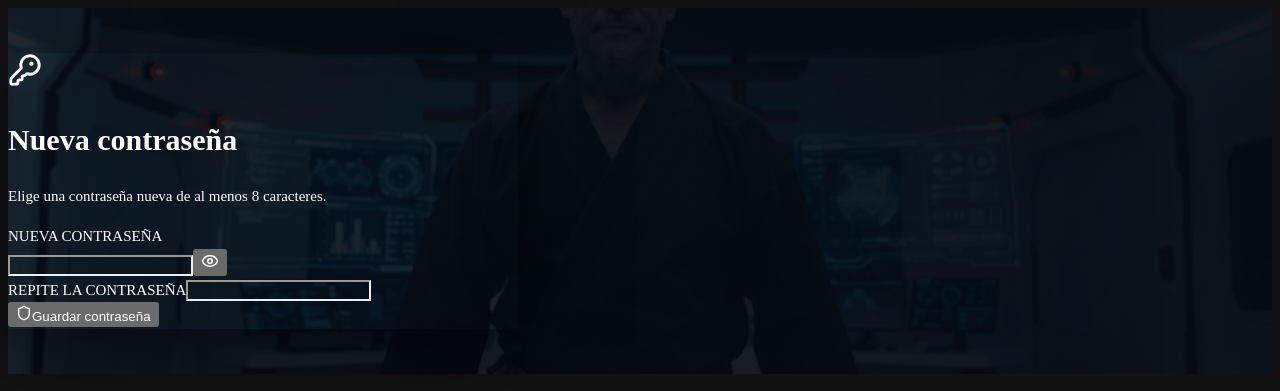
success updates the password, revokes other sessions and announces it
Type "ClaveNueva123" into the password field labelled "NUEVA CONTRASEÑA" at (100, 265), box [8,255,193,276]
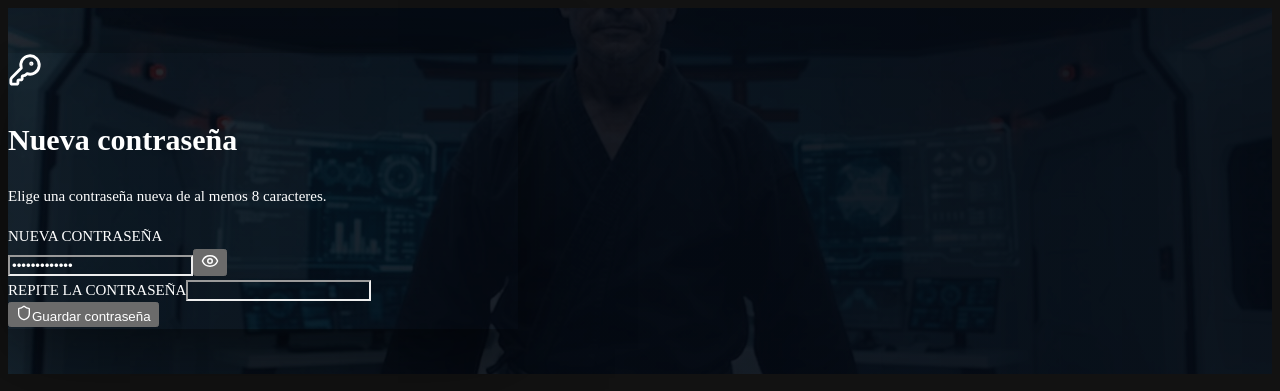
Type "ClaveNueva123" into the password field labelled "REPITE LA CONTRASEÑA" at (279, 290), box [186,280,371,301]
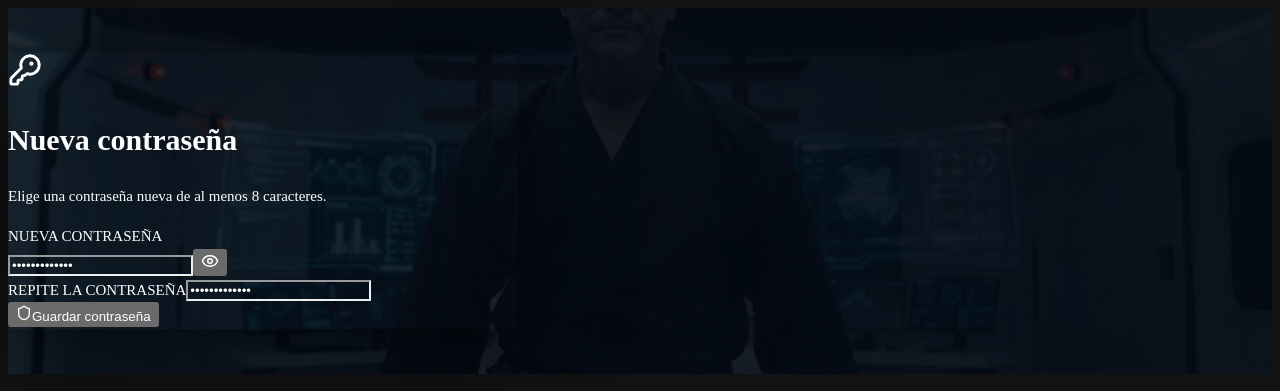
Click the button "Guardar contraseña" at (83, 315), box [8,302,158,327]
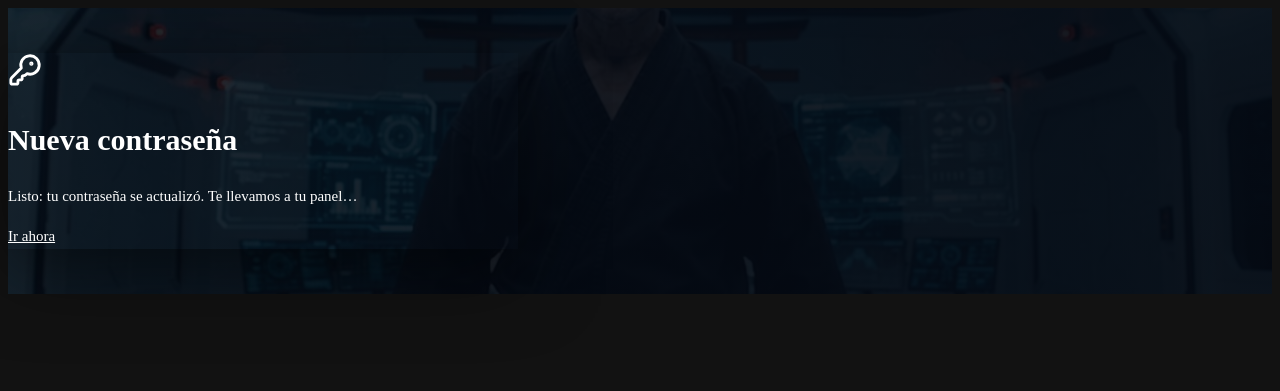
Result: the message shows "se actualizó" at [8,188,357,204]
